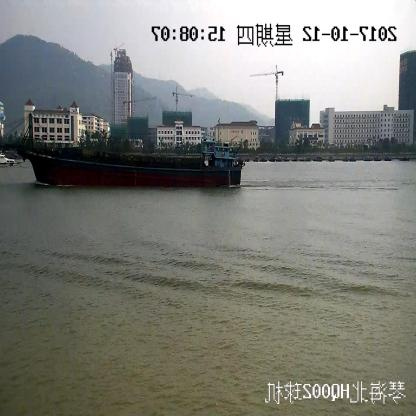Bulk Carrier: (1, 113, 244, 186)
